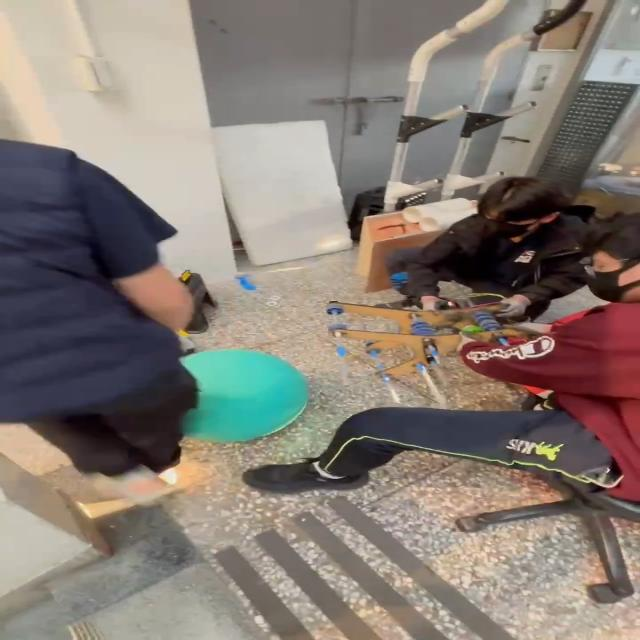ALGAE: (175, 347, 311, 444)
